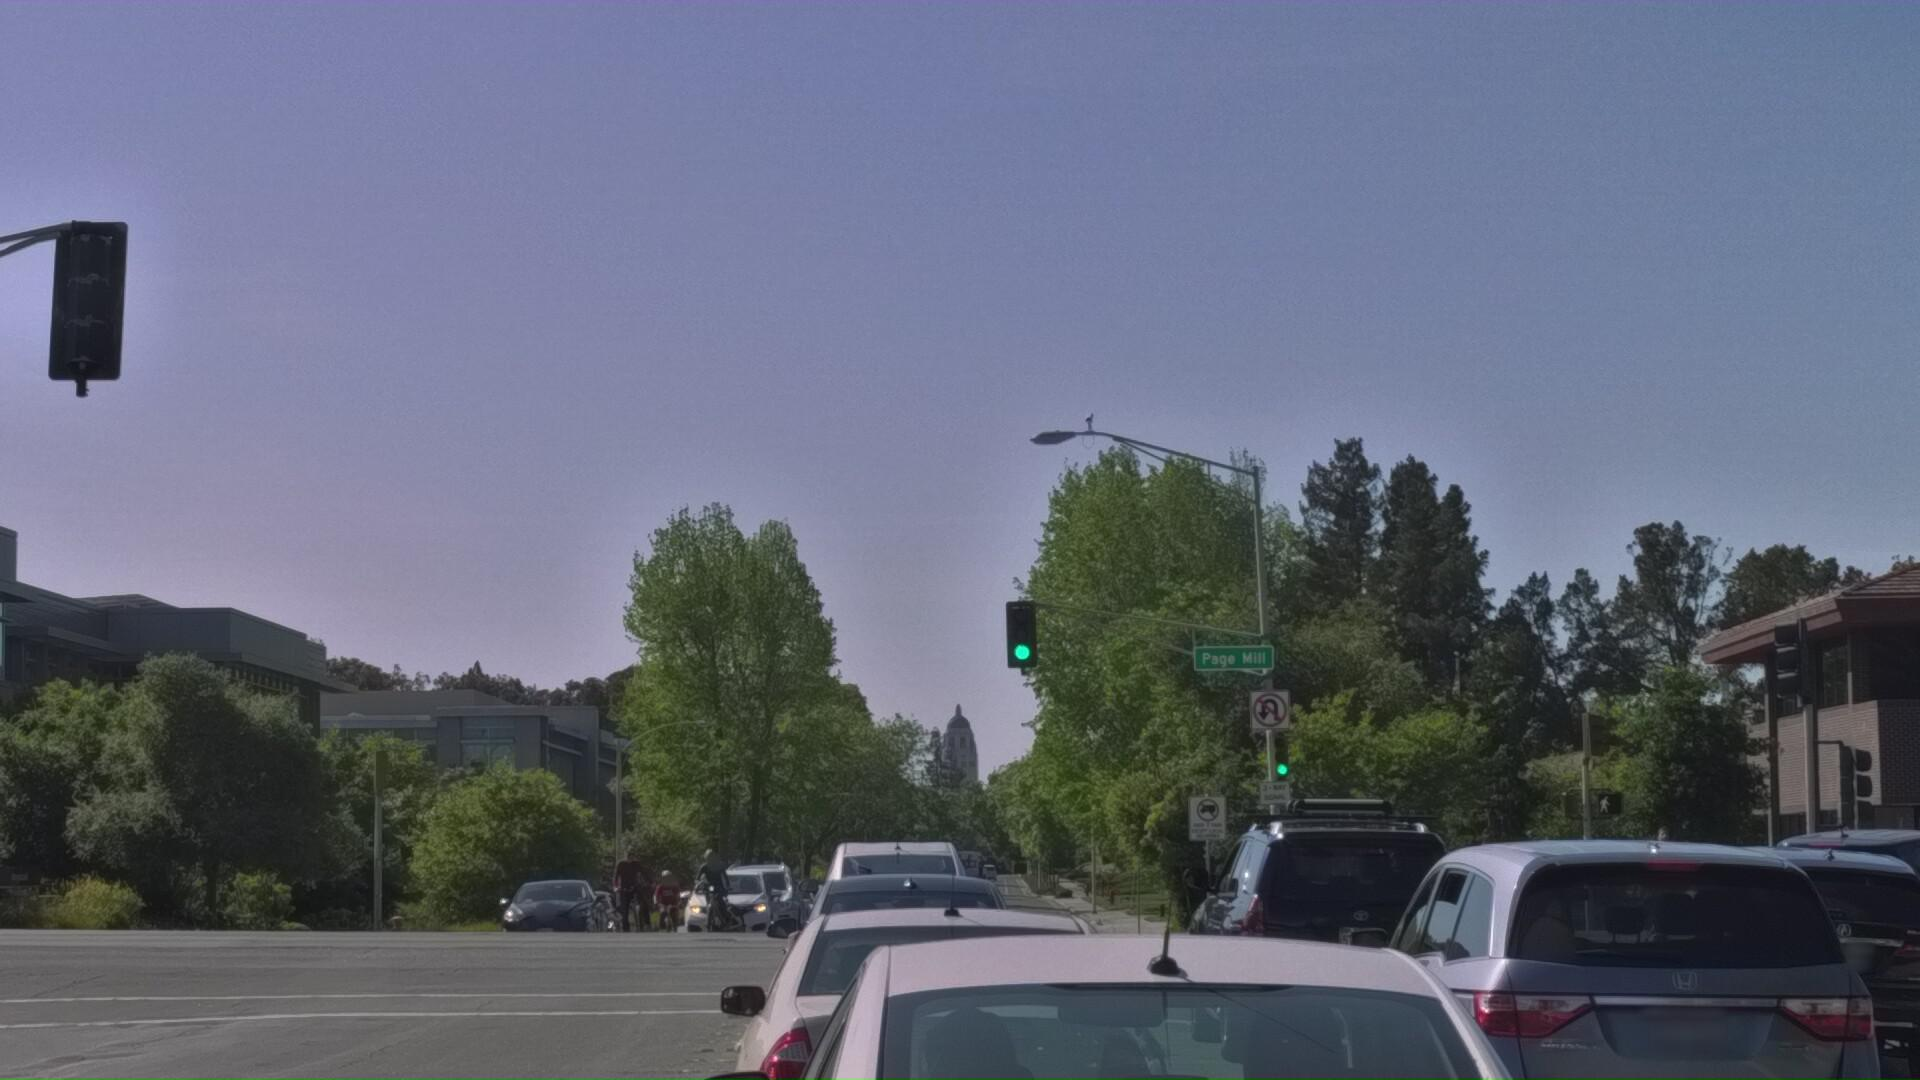bicycle: (688, 926, 758, 1036), (613, 926, 669, 1039), (646, 938, 684, 1030)
car: (650, 943, 1779, 1080), (1338, 872, 1903, 1080), (1156, 860, 1495, 1080), (694, 963, 1162, 1080), (1629, 923, 1920, 1080), (752, 909, 1010, 1080), (800, 907, 1007, 1076), (1729, 898, 1920, 1080), (501, 963, 622, 1052), (688, 952, 793, 1042)
